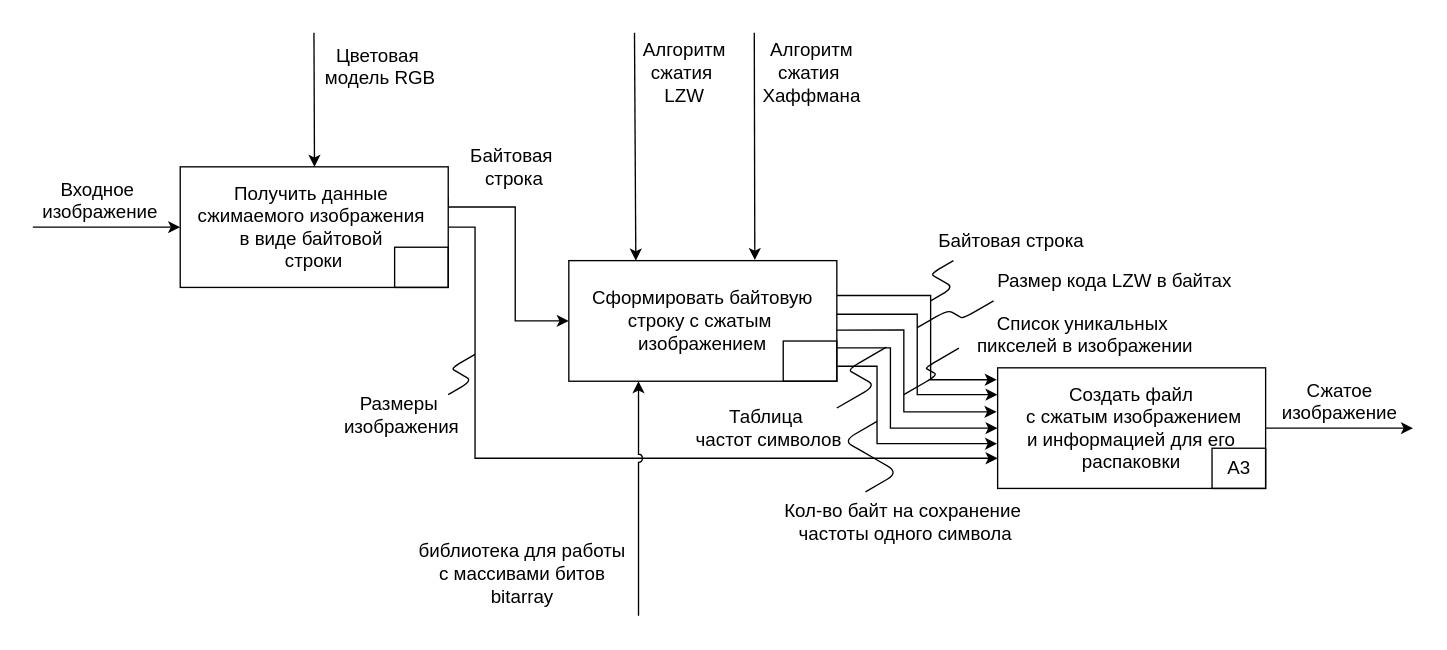
This 1447x650 diagram has some shape labels left out. The centre of each missing label's shape, as x and y in pixels:
A1: pixel 420 266
A2: pixel 809 360
